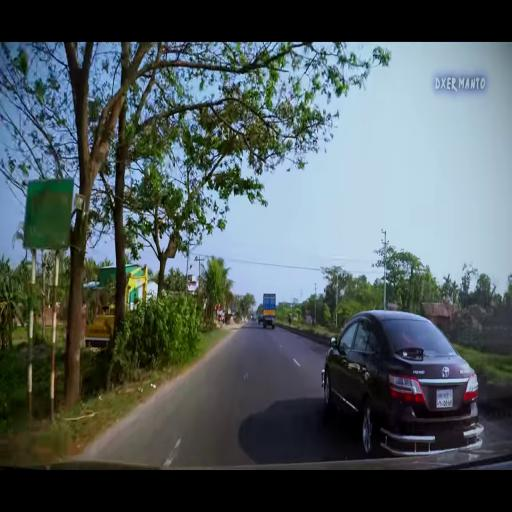car: (320, 304, 486, 460)
truck: (263, 291, 277, 331)
